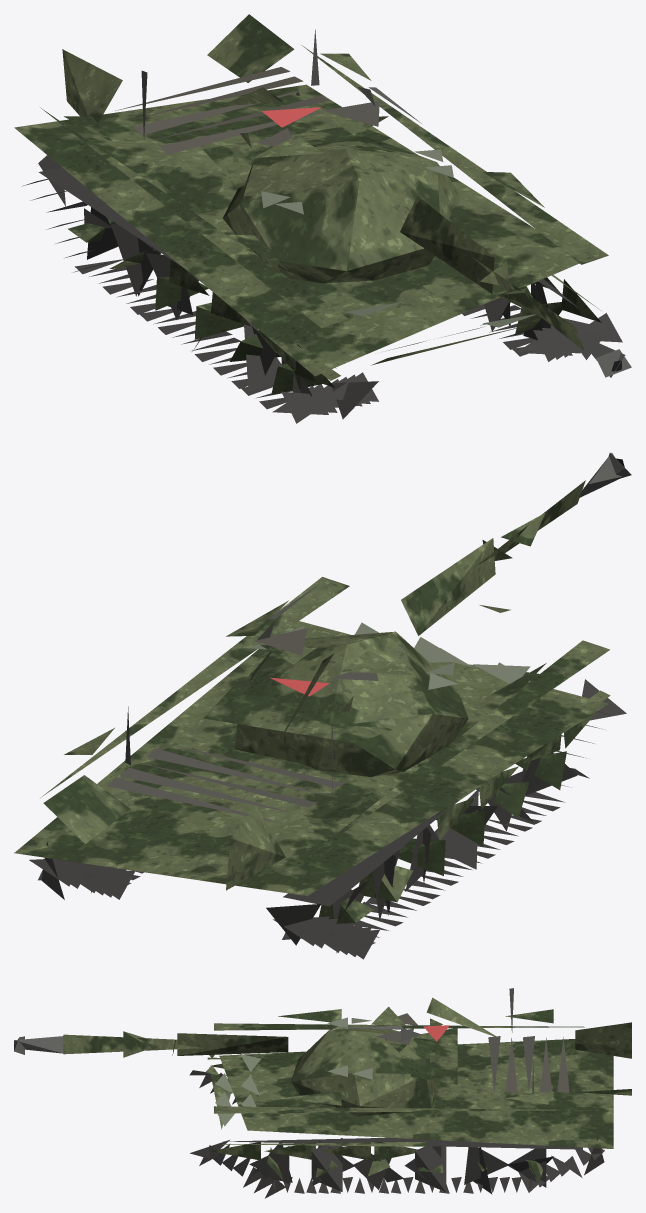
Rendered from mbt_e4_ru_t72_LOD2.glb.
3 renders of one model, top to bottom at view 1: azimuth 30°, elevation 25°; view 2: azimuth 150°, elevation 25°; view 3: azimuth 270°, elevation 25°, orthographic. The views are drawn at different scales.
Visible parts, largest first — view 1: mbt_e4_ru_t72_LOD2_body, mbt_e4_ru_t72_LOD2_track, mbt_e4_ru_t72_LOD2_deck, mbt_e4_ru_t72_LOD2_gun, mbt_e4_ru_t72_LOD2_era, mbt_e4_ru_t72_LOD2_team; view 2: mbt_e4_ru_t72_LOD2_body, mbt_e4_ru_t72_LOD2_track, mbt_e4_ru_t72_LOD2_deck, mbt_e4_ru_t72_LOD2_era, mbt_e4_ru_t72_LOD2_gun; view 3: mbt_e4_ru_t72_LOD2_body, mbt_e4_ru_t72_LOD2_track, mbt_e4_ru_t72_LOD2_deck, mbt_e4_ru_t72_LOD2_era, mbt_e4_ru_t72_LOD2_gun.
Boxes of the visible parts, left/top/right/bottom form: mbt_e4_ru_t72_LOD2_body: left=14, top=14, right=608, bottom=394; mbt_e4_ru_t72_LOD2_track: left=22, top=91, right=622, bottom=423; mbt_e4_ru_t72_LOD2_deck: left=115, top=67, right=379, bottom=154; mbt_e4_ru_t72_LOD2_gun: left=141, top=29, right=631, bottom=377; mbt_e4_ru_t72_LOD2_era: left=261, top=149, right=535, bottom=352; mbt_e4_ru_t72_LOD2_team: left=261, top=107, right=320, bottom=127; mbt_e4_ru_t72_LOD2_body: left=14, top=480, right=610, bottom=923; mbt_e4_ru_t72_LOD2_track: left=29, top=679, right=626, bottom=959; mbt_e4_ru_t72_LOD2_deck: left=107, top=628, right=378, bottom=824; mbt_e4_ru_t72_LOD2_era: left=248, top=622, right=530, bottom=689; mbt_e4_ru_t72_LOD2_gun: left=125, top=453, right=631, bottom=795; mbt_e4_ru_t72_LOD2_body: left=63, top=997, right=631, bottom=1182; mbt_e4_ru_t72_LOD2_track: left=189, top=1067, right=604, bottom=1198; mbt_e4_ru_t72_LOD2_deck: left=375, top=1013, right=569, bottom=1093; mbt_e4_ru_t72_LOD2_era: left=215, top=1017, right=372, bottom=1126; mbt_e4_ru_t72_LOD2_gun: left=14, top=988, right=533, bottom=1094.
Bounding box in the file's own units: 3.59 × 2.57 × 10.03.
7 materials, 1 textured.
